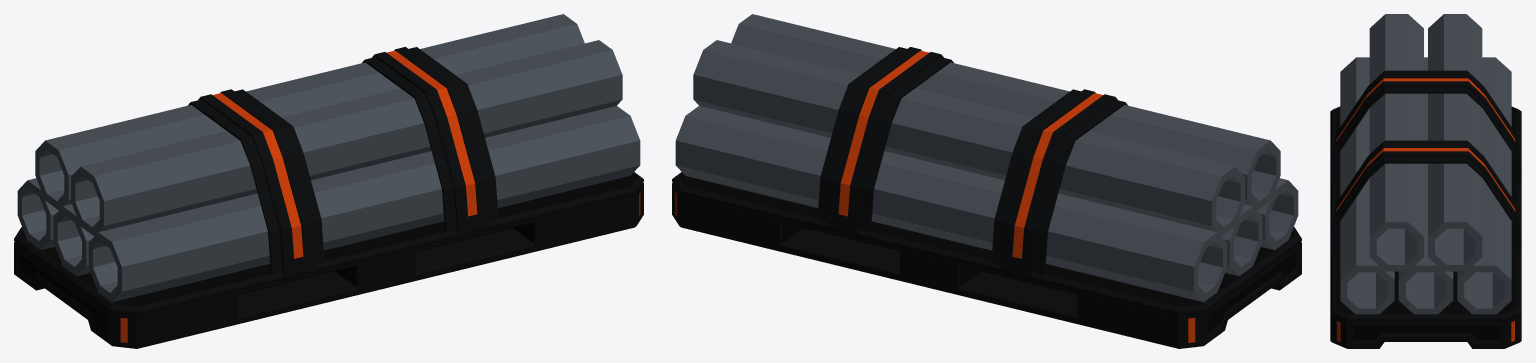
File: SM_Tube_Bundle.obj
The picture shows the model from 3 angles, left to right: view 1: azimuth 30°, elevation 25°; view 2: azimuth 150°, elevation 25°; view 3: azimuth 270°, elevation 25°; orthographic projection. The views are drawn at different scales.
Parts seen in each view (by area): view 1: SM_Tube_Bundle; view 2: SM_Tube_Bundle; view 3: SM_Tube_Bundle.
Part boxes in pixels (x1,y1,x2,y2): SM_Tube_Bundle: (14, 14, 643, 348); SM_Tube_Bundle: (672, 14, 1301, 348); SM_Tube_Bundle: (1330, 14, 1521, 348).
Bounding box in the file's own units: 0.65 × 0.1817 × 0.245.
